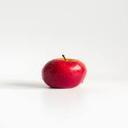apple: (41, 54, 87, 88)
